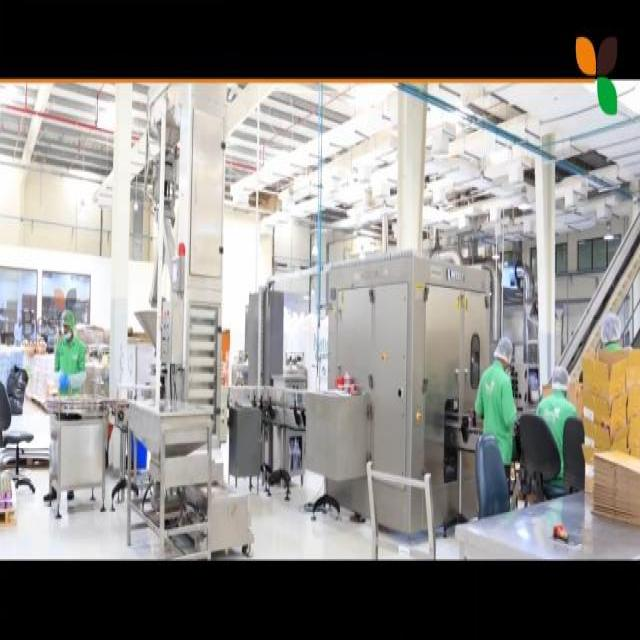hairnet: (602, 316, 623, 345), (496, 336, 513, 363), (550, 365, 568, 389), (61, 310, 76, 326)
